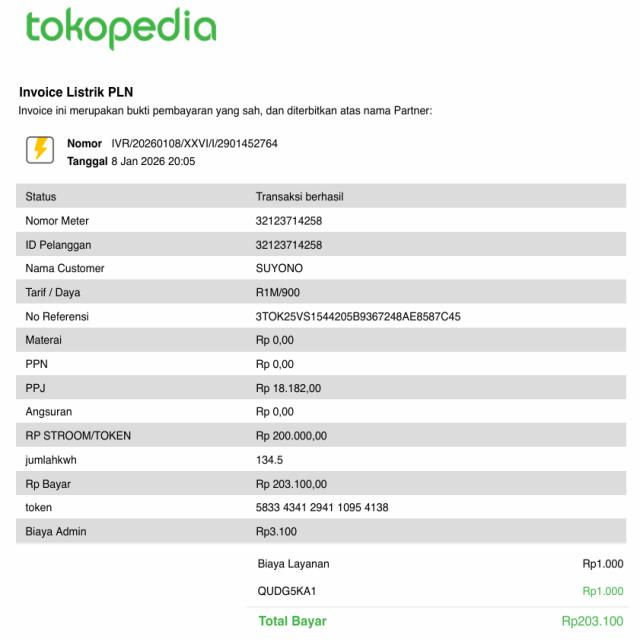date: (109, 153, 196, 170)
store: (23, 5, 228, 54), (15, 83, 137, 103)
total: (256, 611, 628, 634)
